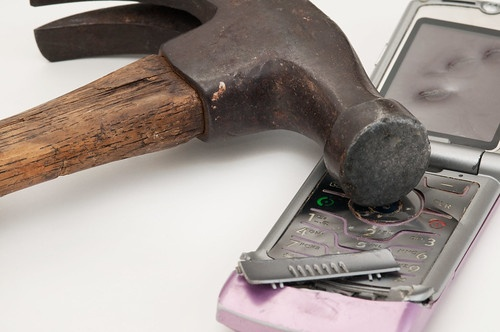hammer: (1, 0, 430, 207)
